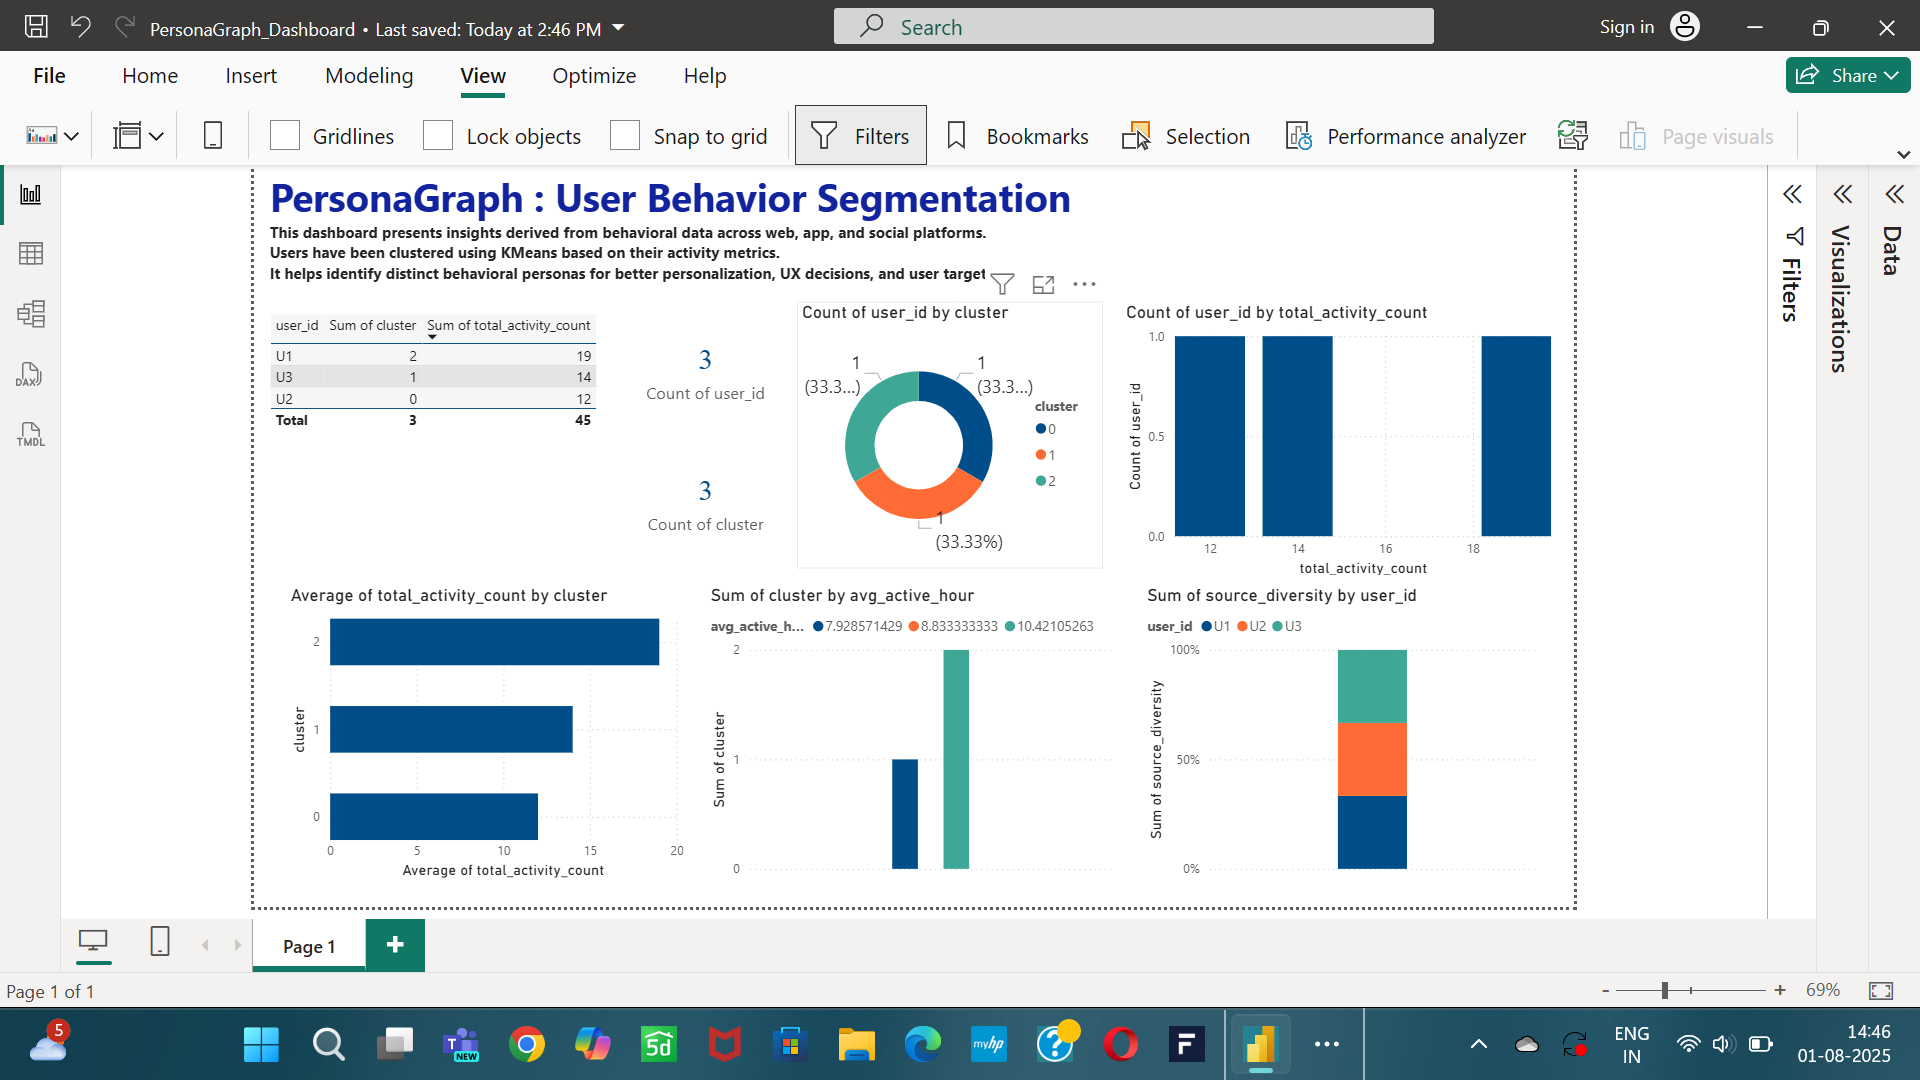

Layout of this report page (visuals, bound fields, positions):
{"tool":"powerbi","page":{"name":"Page 1","canvas":[1280,720],"ordinal":0},"visuals":[{"type":"textbox","box":[9.7,0,1253.3,127.9],"z":0},{"type":"card","fields":{"Values":["CountNonNull(PersonaGraph.cluster)"]},"box":[362.8,262.7,151.2,126.6],"z":1000},{"type":"card","fields":{"Values":["CountNonNull(PersonaGraph.user_id)"]},"box":[362.8,139.8,151.2,117.2],"z":2000},{"type":"donutChart","fields":{"Category":["PersonaGraph.cluster"],"Y":["CountNonNull(PersonaGraph.user_id)"]},"box":[527.2,132.3,296.7,258.9],"z":3000},{"type":"clusteredBarChart","fields":{"Category":["PersonaGraph.cluster"],"Y":["Avg(PersonaGraph.total_activity_count)"]},"box":[30.2,408.2,391.2,289.1],"z":4000},{"type":"columnChart","fields":{"Category":["PersonaGraph.total_activity_count"],"Y":["CountNonNull(PersonaGraph.user_id)"]},"box":[842,132.8,422.6,270.4],"z":5000},{"type":"clusteredColumnChart","fields":{"Y":["Sum(PersonaGraph.cluster)"],"Series":["PersonaGraph.avg_active_hour"]},"box":[438.4,408.2,402.5,289.1],"z":6000},{"type":"hundredPercentStackedColumnChart","fields":{"Y":["Sum(PersonaGraph.source_diversity)"],"Series":["PersonaGraph.user_id"]},"box":[861.7,408.2,389.3,289.1],"z":7000},{"type":"tableEx","fields":{"Values":["PersonaGraph.user_id","Sum(PersonaGraph.cluster)","Sum(PersonaGraph.total_activity_count)"]},"box":[9.7,139.3,338.4,249.4],"z":8000}]}

Visuals, with their boxes on the page's 1280x720 design canvas (x1, y1, x2, y2). These are canvas units, not pixel positions in the 1920x1080 screenshot, which may show the page scaled, cropped or inside an application window:
textbox: {"x1": 10, "y1": 0, "x2": 1263, "y2": 128}
card - CountNonNull(PersonaGraph.cluster): {"x1": 363, "y1": 263, "x2": 514, "y2": 389}
card - CountNonNull(PersonaGraph.user_id): {"x1": 363, "y1": 140, "x2": 514, "y2": 257}
donutChart - PersonaGraph.cluster x CountNonNull(PersonaGraph.user_id): {"x1": 527, "y1": 132, "x2": 824, "y2": 391}
clusteredBarChart - PersonaGraph.cluster x Avg(PersonaGraph.total_activity_count): {"x1": 30, "y1": 408, "x2": 421, "y2": 697}
columnChart - PersonaGraph.total_activity_count x CountNonNull(PersonaGraph.user_id): {"x1": 842, "y1": 133, "x2": 1265, "y2": 403}
clusteredColumnChart - Sum(PersonaGraph.cluster) x PersonaGraph.avg_active_hour: {"x1": 438, "y1": 408, "x2": 841, "y2": 697}
hundredPercentStackedColumnChart - Sum(PersonaGraph.source_diversity) x PersonaGraph.user_id: {"x1": 862, "y1": 408, "x2": 1251, "y2": 697}
tableEx - PersonaGraph.user_id x Sum(PersonaGraph.cluster): {"x1": 10, "y1": 139, "x2": 348, "y2": 389}
